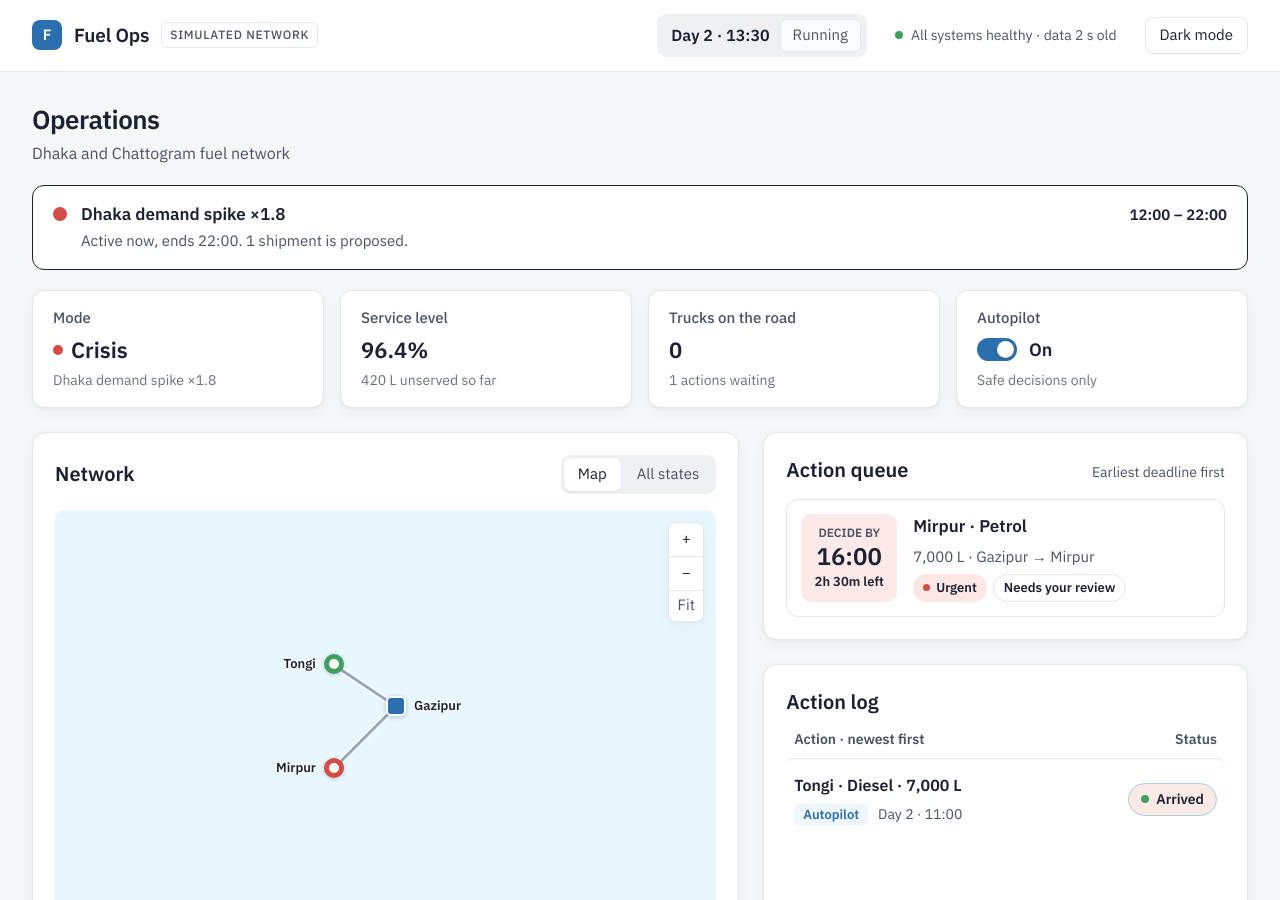
ConsolePage · live backend › renders backend data and posts an edited approval
The width and height of the screenshot is (1280, 900).
Expected: the text "96.4%" is shown, [361,335,428,364]
Expected: the text "Day 2 · 13:30" is shown, [671,23,770,47]
Click the button that starts with "DECIDE BY": (1006, 558) [786,499,1225,616]
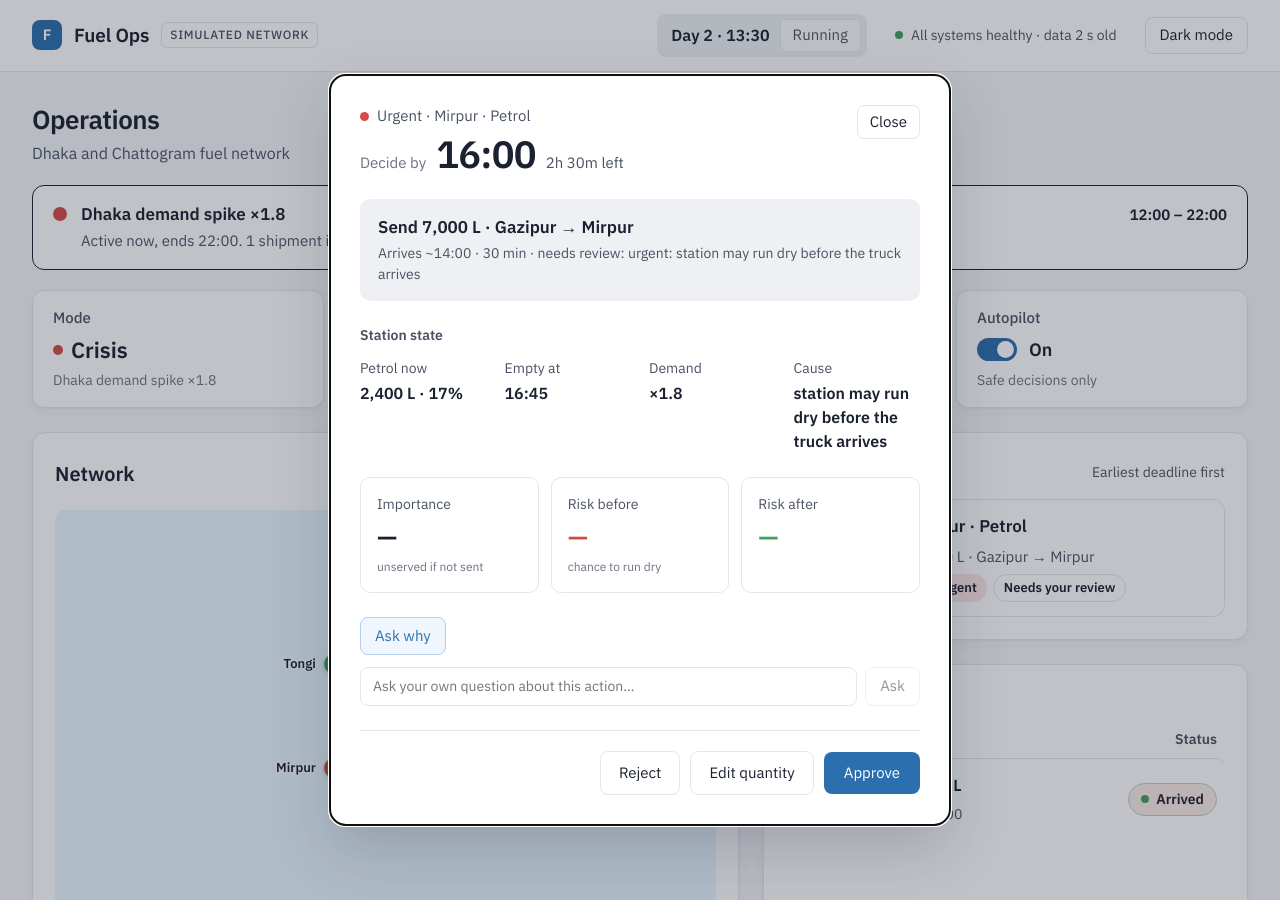
Click the button "Edit quantity": (752, 773) [690,751,814,795]
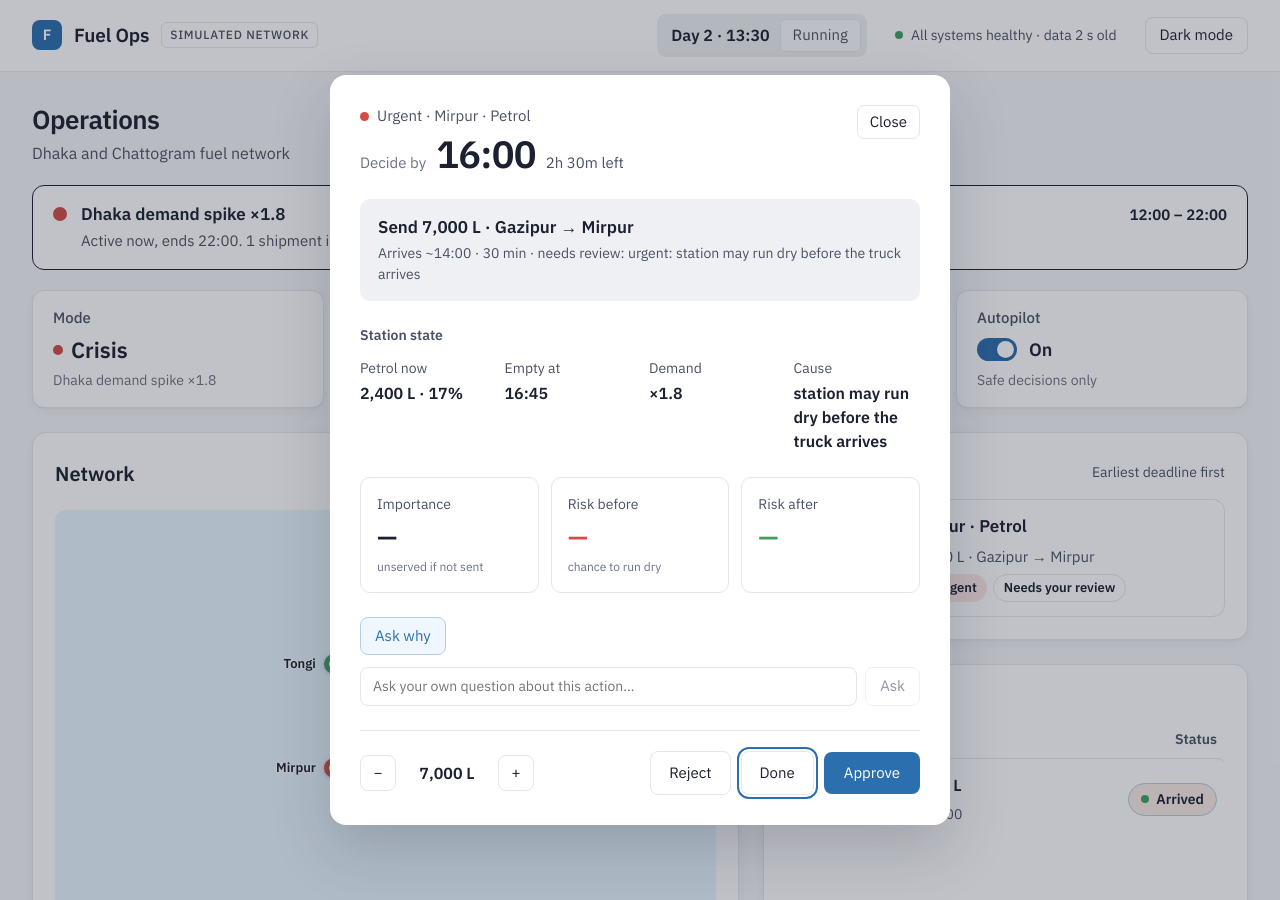
Click the button named "Decrease quantity": (378, 773) [360,755,396,791]
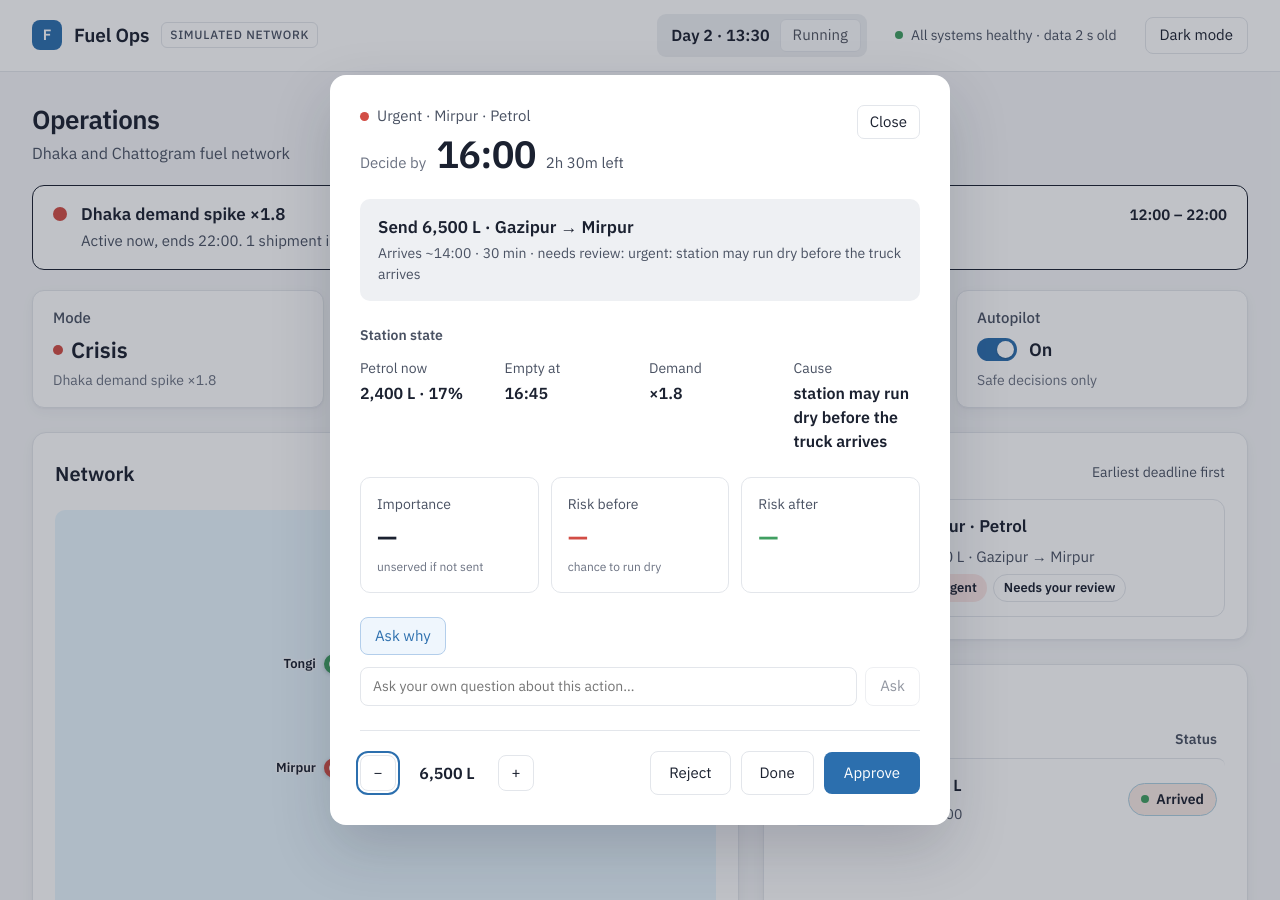
Click the button "Approve": (872, 773) [824,752,920,794]
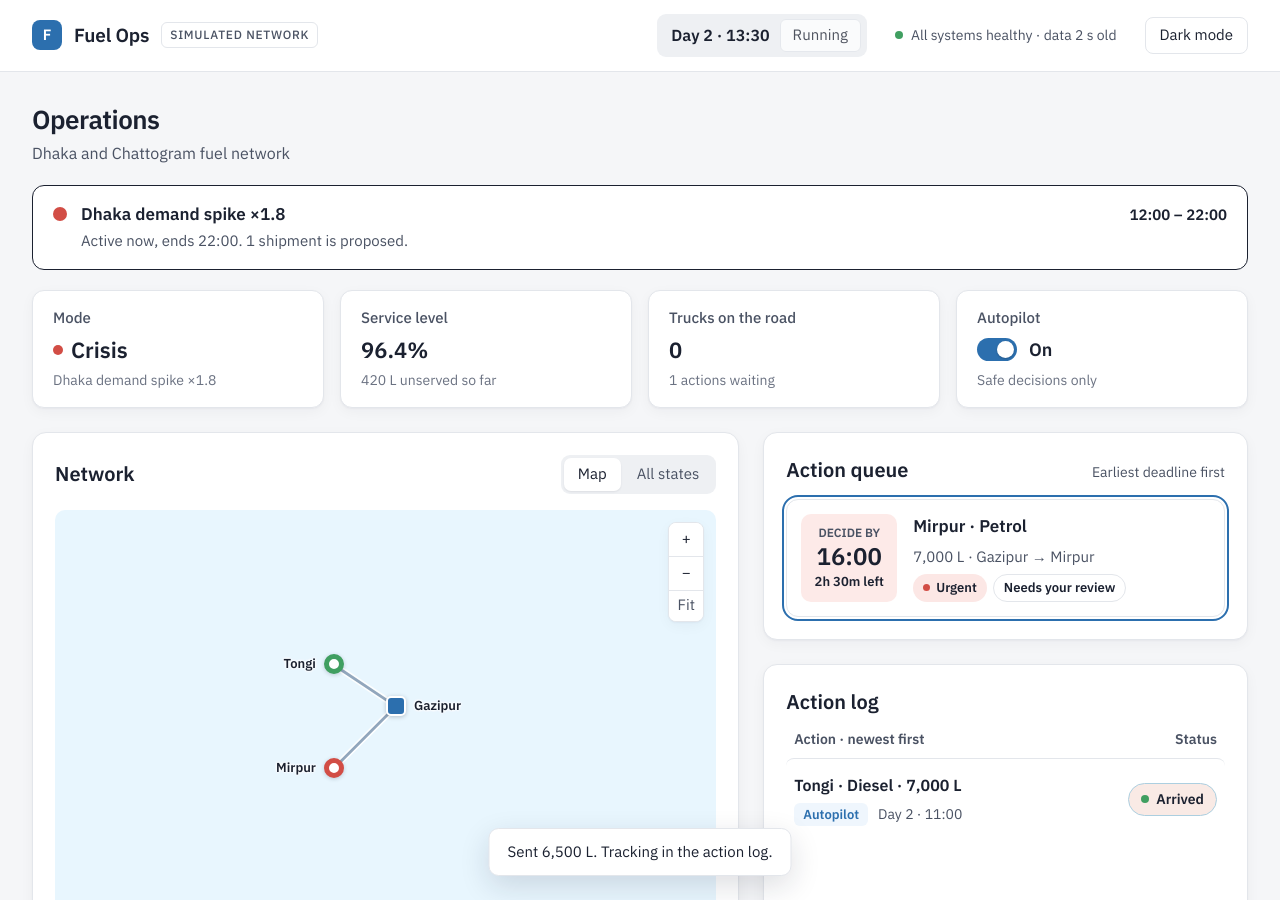
Result: the text "Sent 6,500 L. Tracking in the action log." is shown at [488,828,792,876]
